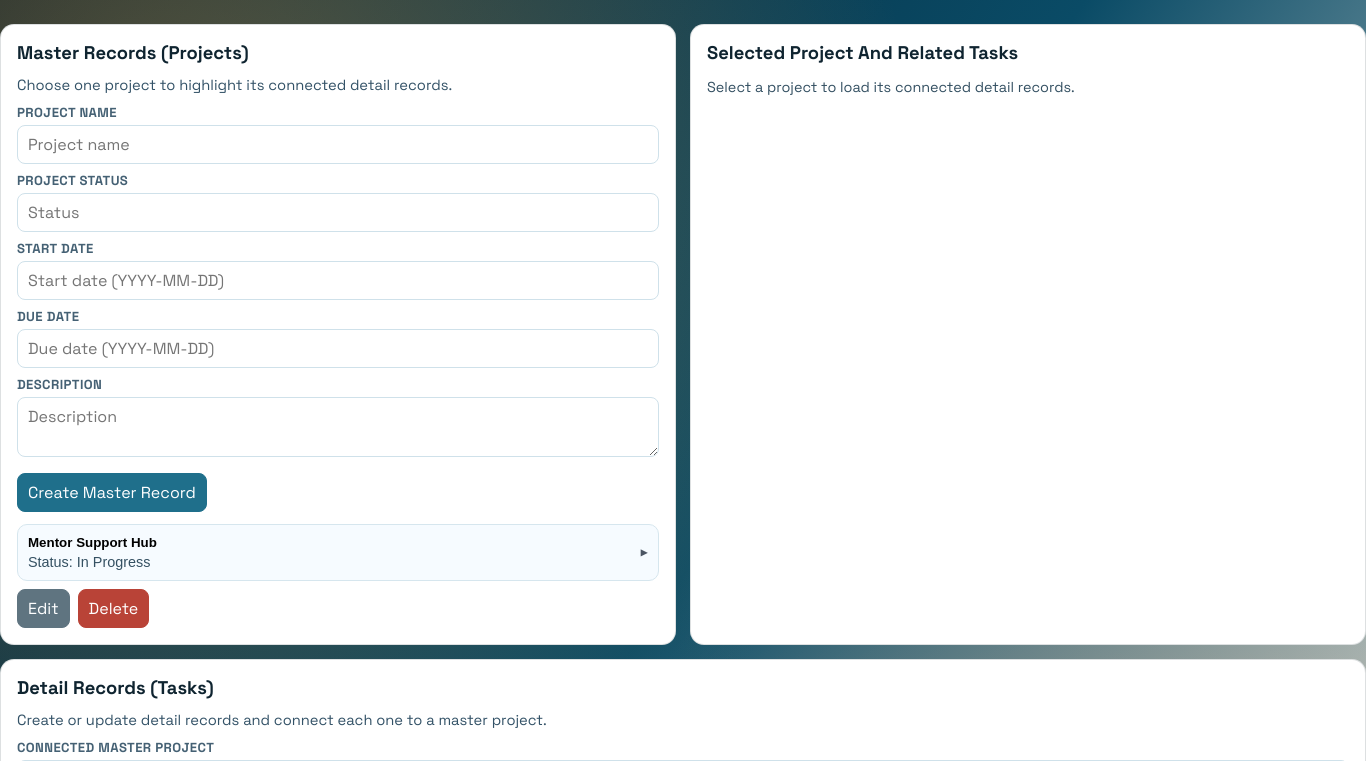
ProjectTaskDashboard › loads related detail records with the nested endpoint when a master record is selected
Expected: the text "Select a project to load its connected detail records." is shown, x1=707 y1=78 x2=1075 y2=96
What coordinates should you click on to do the following:
click the button "Mentor Support Hub Status: In Progress"
I would click on:
 (92, 542)
Its box is x1=17 y1=524 x2=659 y2=581.
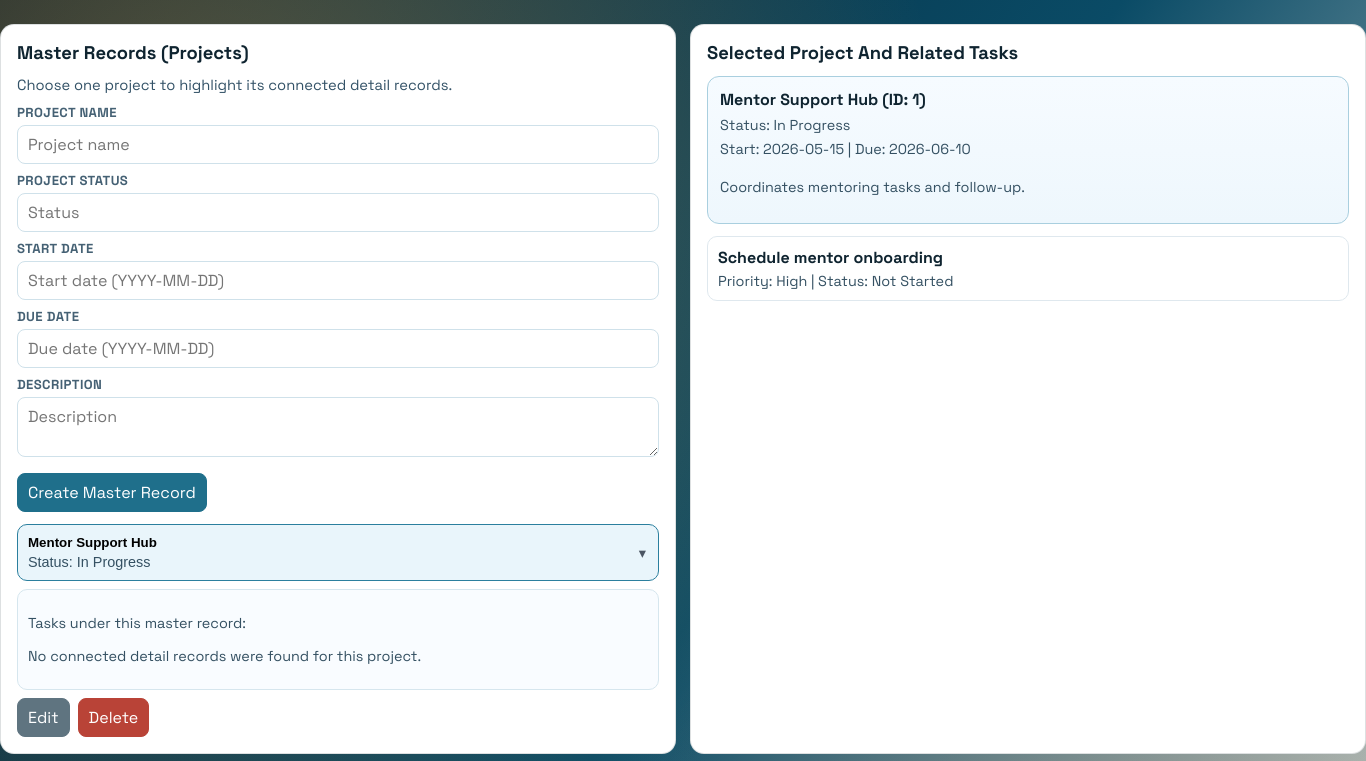
Expected: the text "Schedule mentor onboarding" is shown, x1=718 y1=247 x2=943 y2=268
Expected: the text "Priority: High | Status: Not Started" is shown, x1=718 y1=272 x2=953 y2=290
